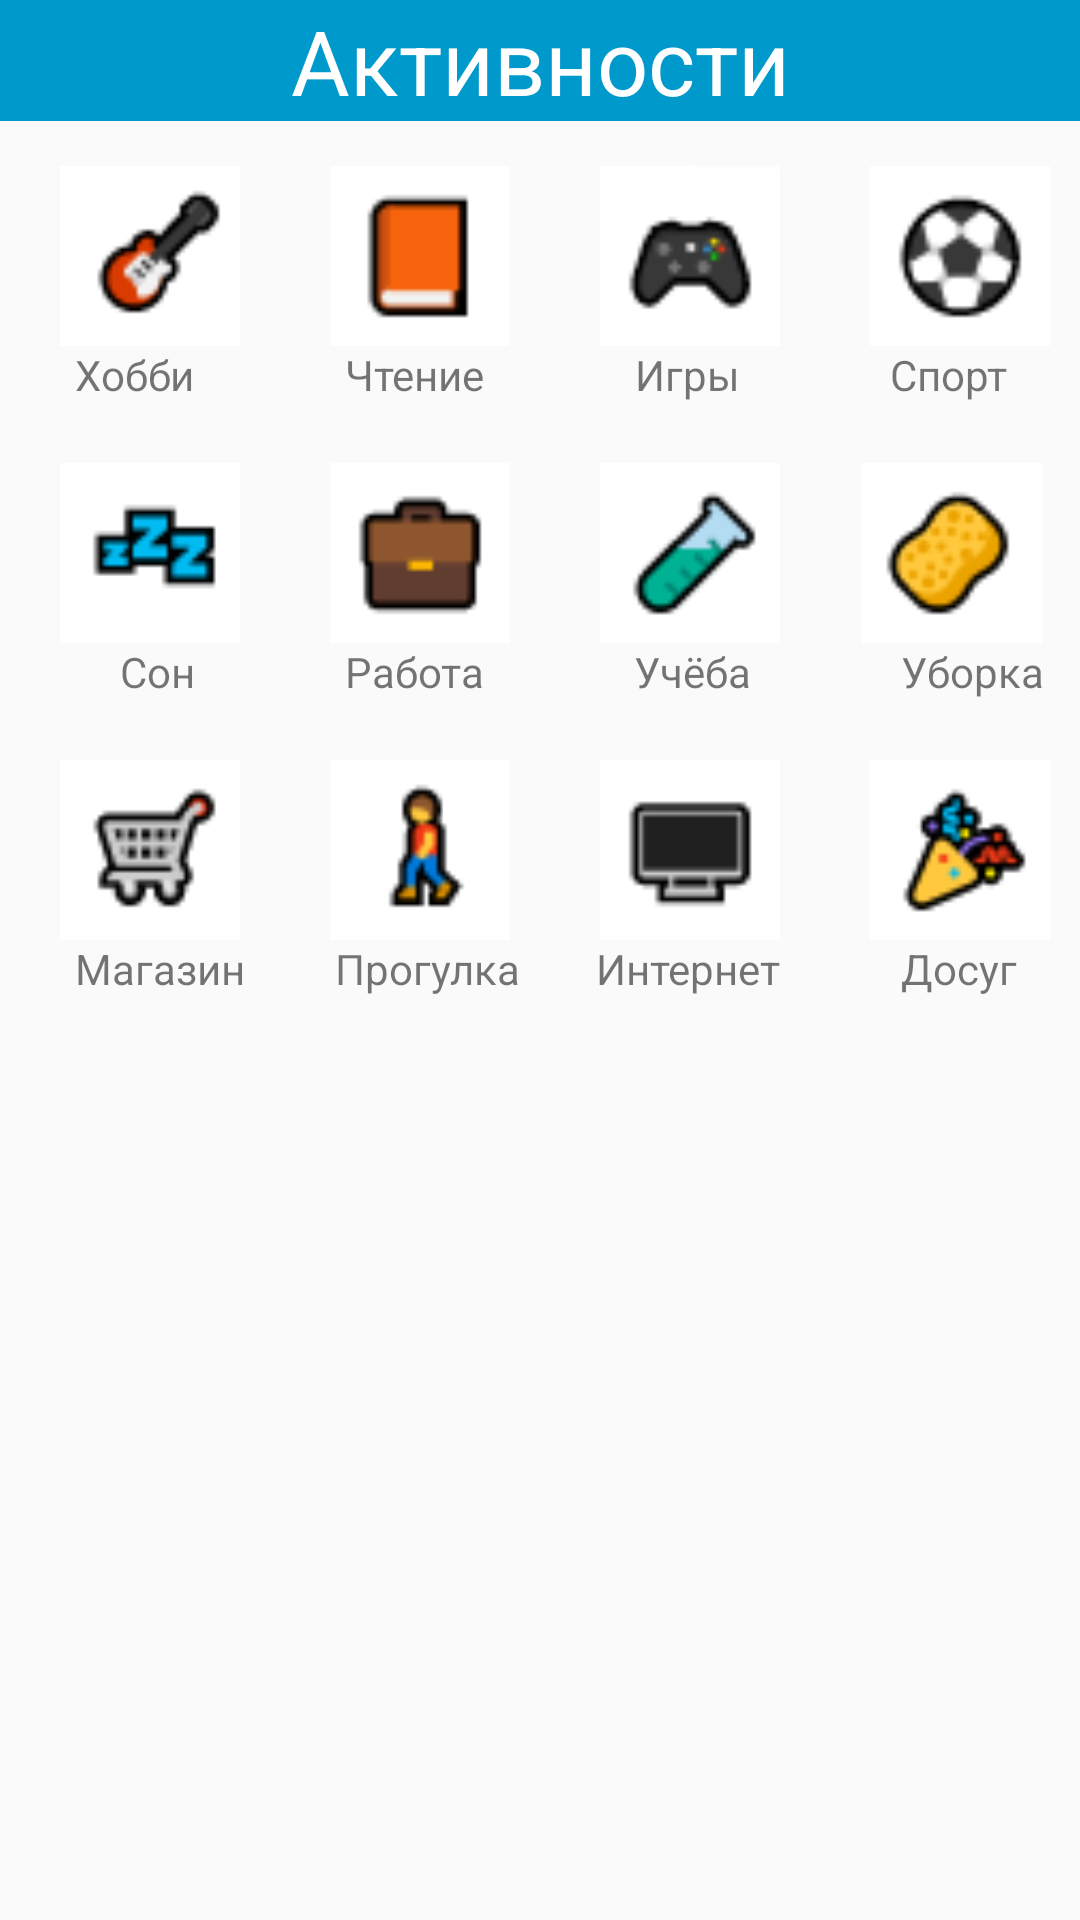

Icons on this 1080*1920 Android screen, each with its box as (x1, y1, x2, y2):
cleaning: (886, 492, 1009, 615)
games: (629, 217, 752, 309)
hobbi: (97, 191, 220, 313)
internet: (629, 801, 752, 906)
leisure: (903, 790, 1026, 912)
read: (367, 196, 469, 318)
shop: (93, 789, 216, 907)
sleep: (93, 505, 216, 588)
sport: (899, 196, 1022, 318)
study: (633, 493, 756, 615)
walk: (389, 785, 464, 907)
work: (359, 496, 482, 614)
